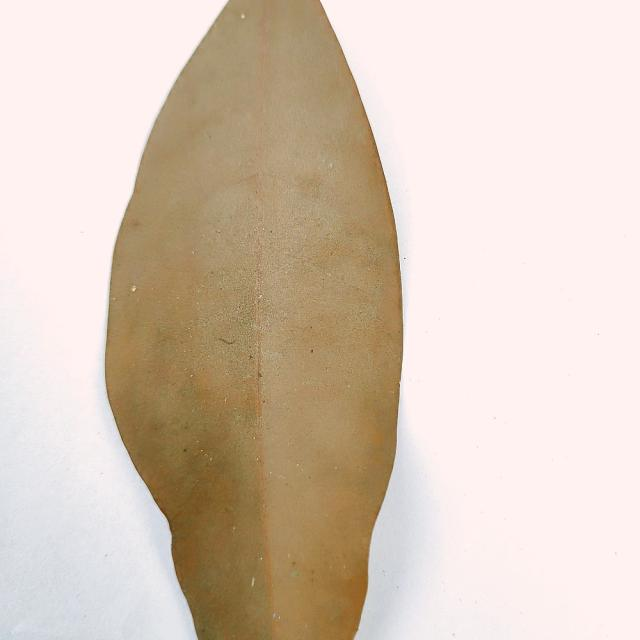Dry_Leaf-Lychee: (103, 0, 404, 639)
